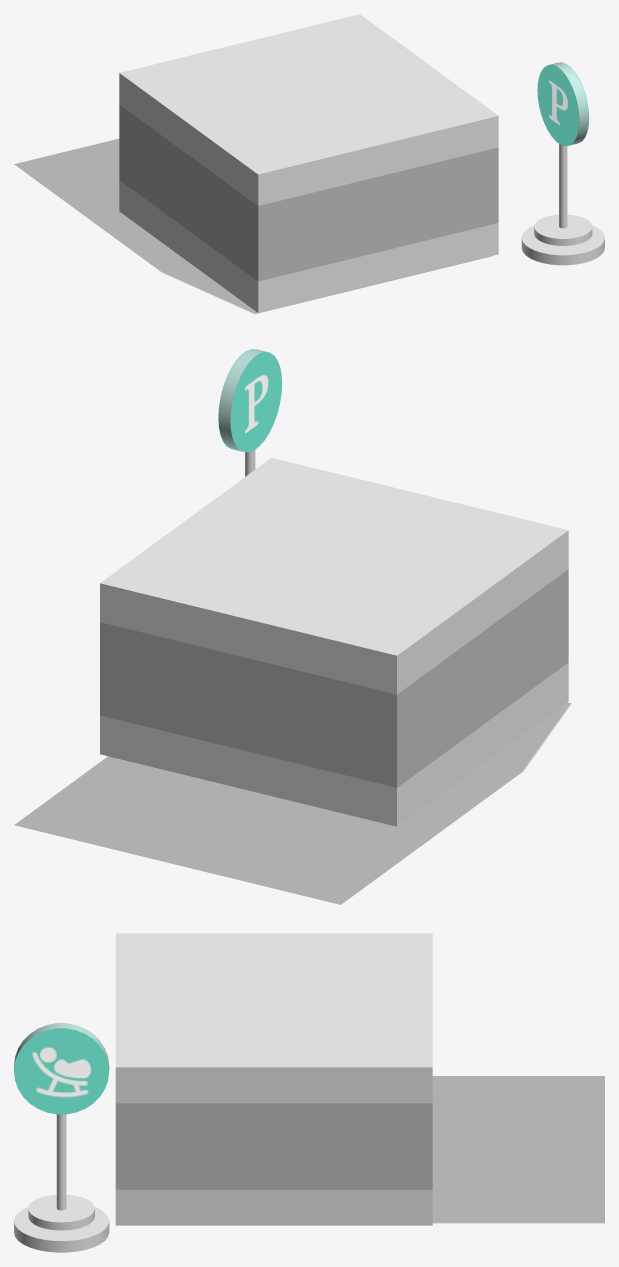
The model's file is block_32.glb.
3 renders of one model, top to bottom at view 1: azimuth 30°, elevation 25°; view 2: azimuth 150°, elevation 25°; view 3: azimuth 270°, elevation 25°, orthographic. The views are drawn at different scales.
Visible parts, largest first — view 1: hitObj, block, Object3D; view 2: hitObj, block, Object3D; view 3: hitObj, block, Object3D.
Boxes of the visible parts, x1,y1,x2,y2 form: hitObj: (119,14,498,312); block: (14,139,604,313); Object3D: (537,62,589,145); hitObj: (100,457,568,826); block: (15,450,570,904); Object3D: (218,349,281,452); hitObj: (115,933,432,1225); block: (14,1076,604,1252); Object3D: (14,1023,109,1114).
Size of the model in its own units: 14.43 by 7.77 by 18.63.
Materials: 6 (3 with a texture image).
